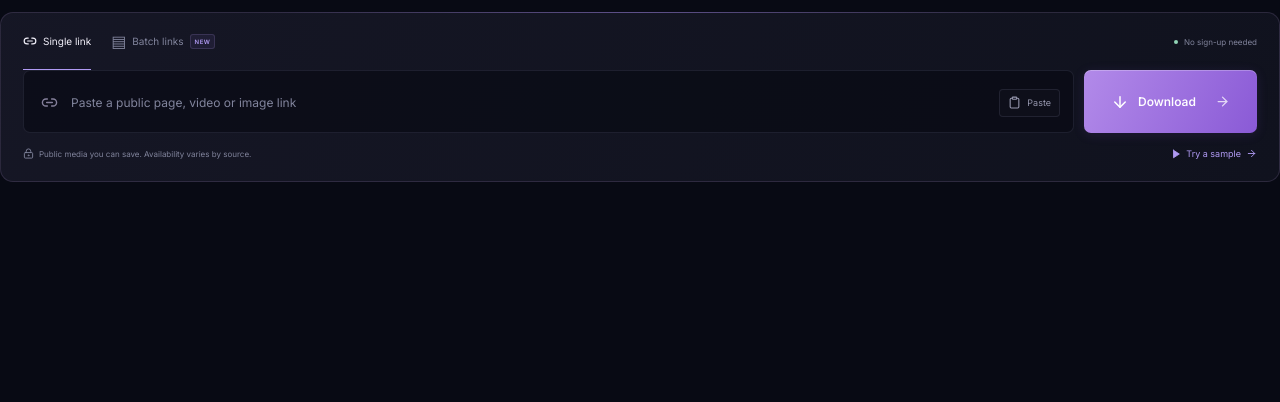
downloader interaction › explains a backend error and lets a retry resolve the same real URL
The width and height of the screenshot is (1280, 402).
In the field: point(548, 102) [24, 71, 1073, 132], type "https://example.com/flower.mp4"
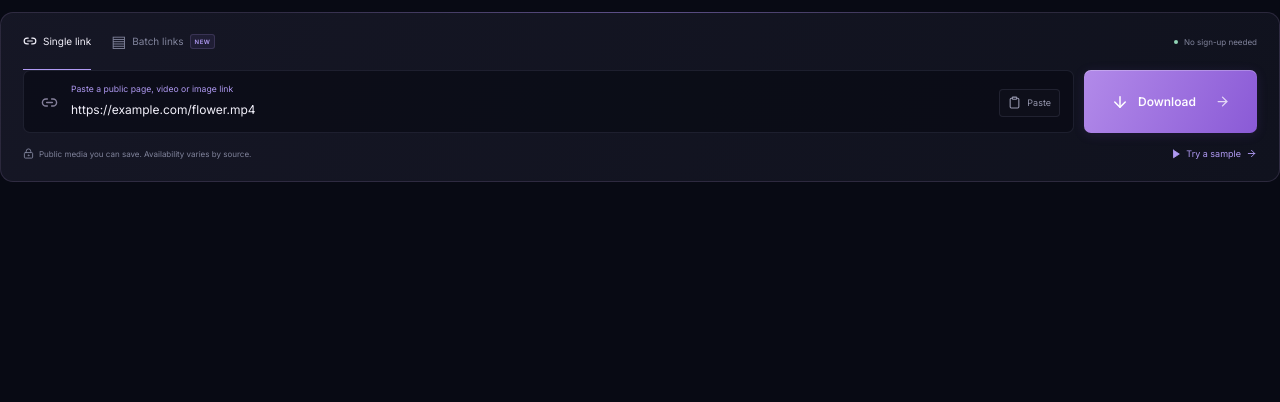
Submit the form named "Media downloader", box [23, 70, 1257, 162]
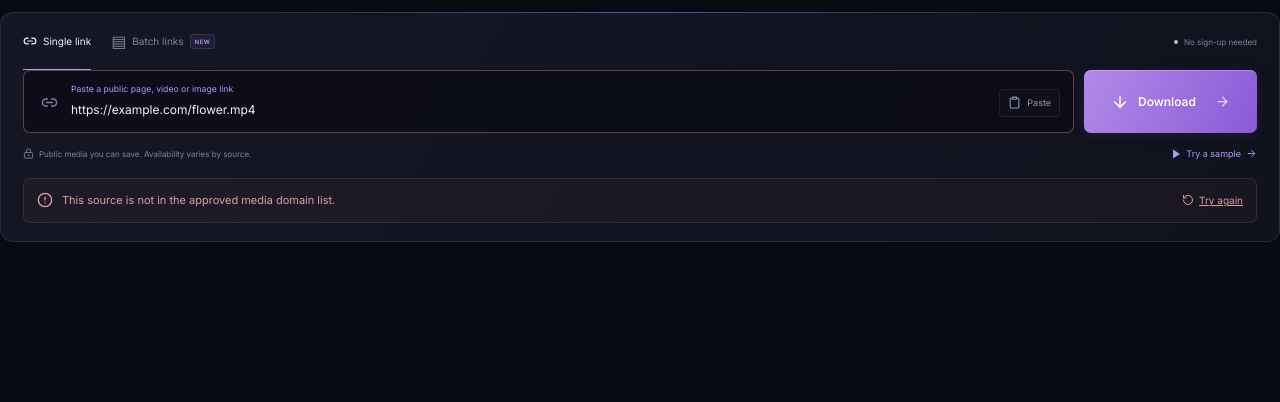
Click the button "Try again": point(1213, 200) [1182, 192, 1243, 208]
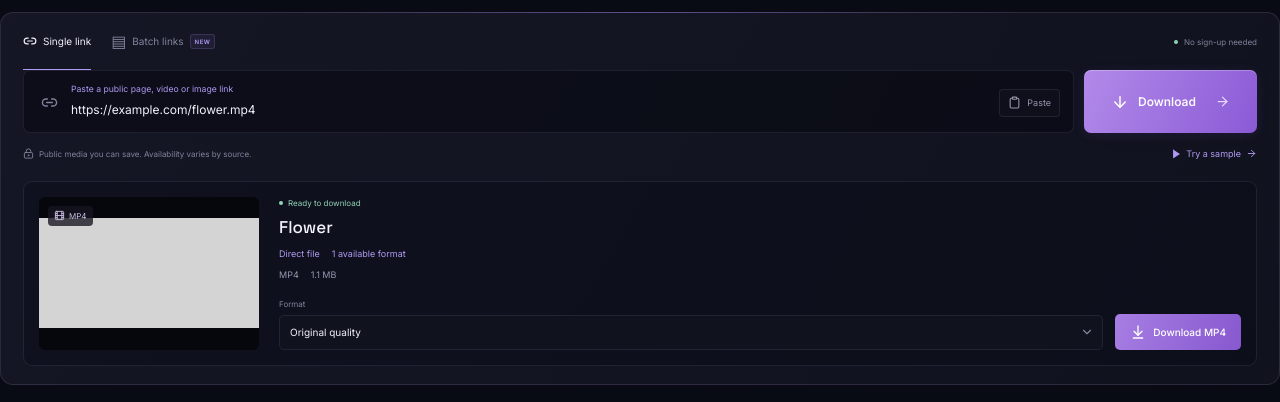
Check: the heading "Flower" is shown, box [279, 216, 333, 238]
